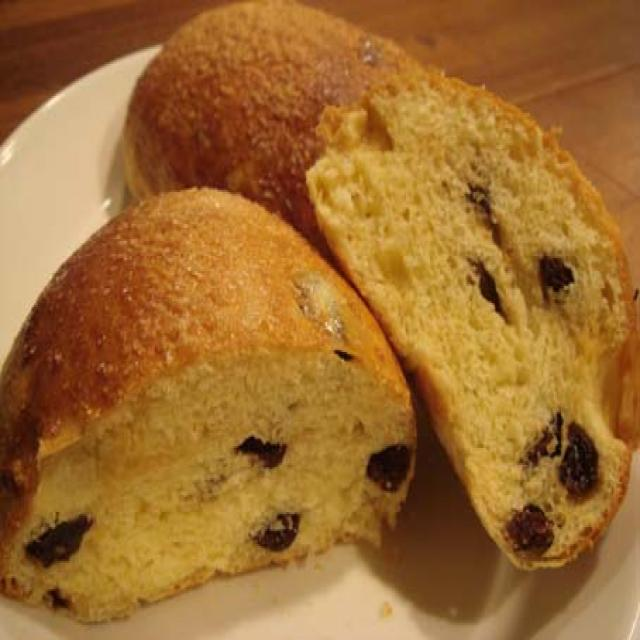面包点心: (0, 0, 640, 600)
